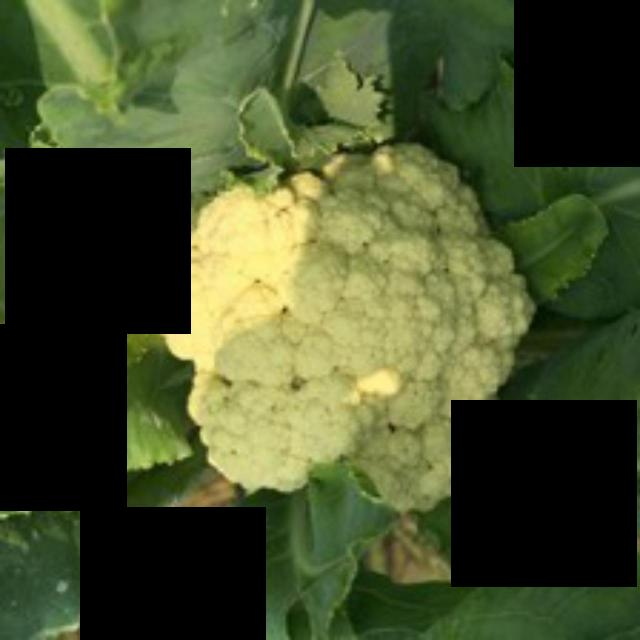cauliflower: (137, 130, 544, 520)
